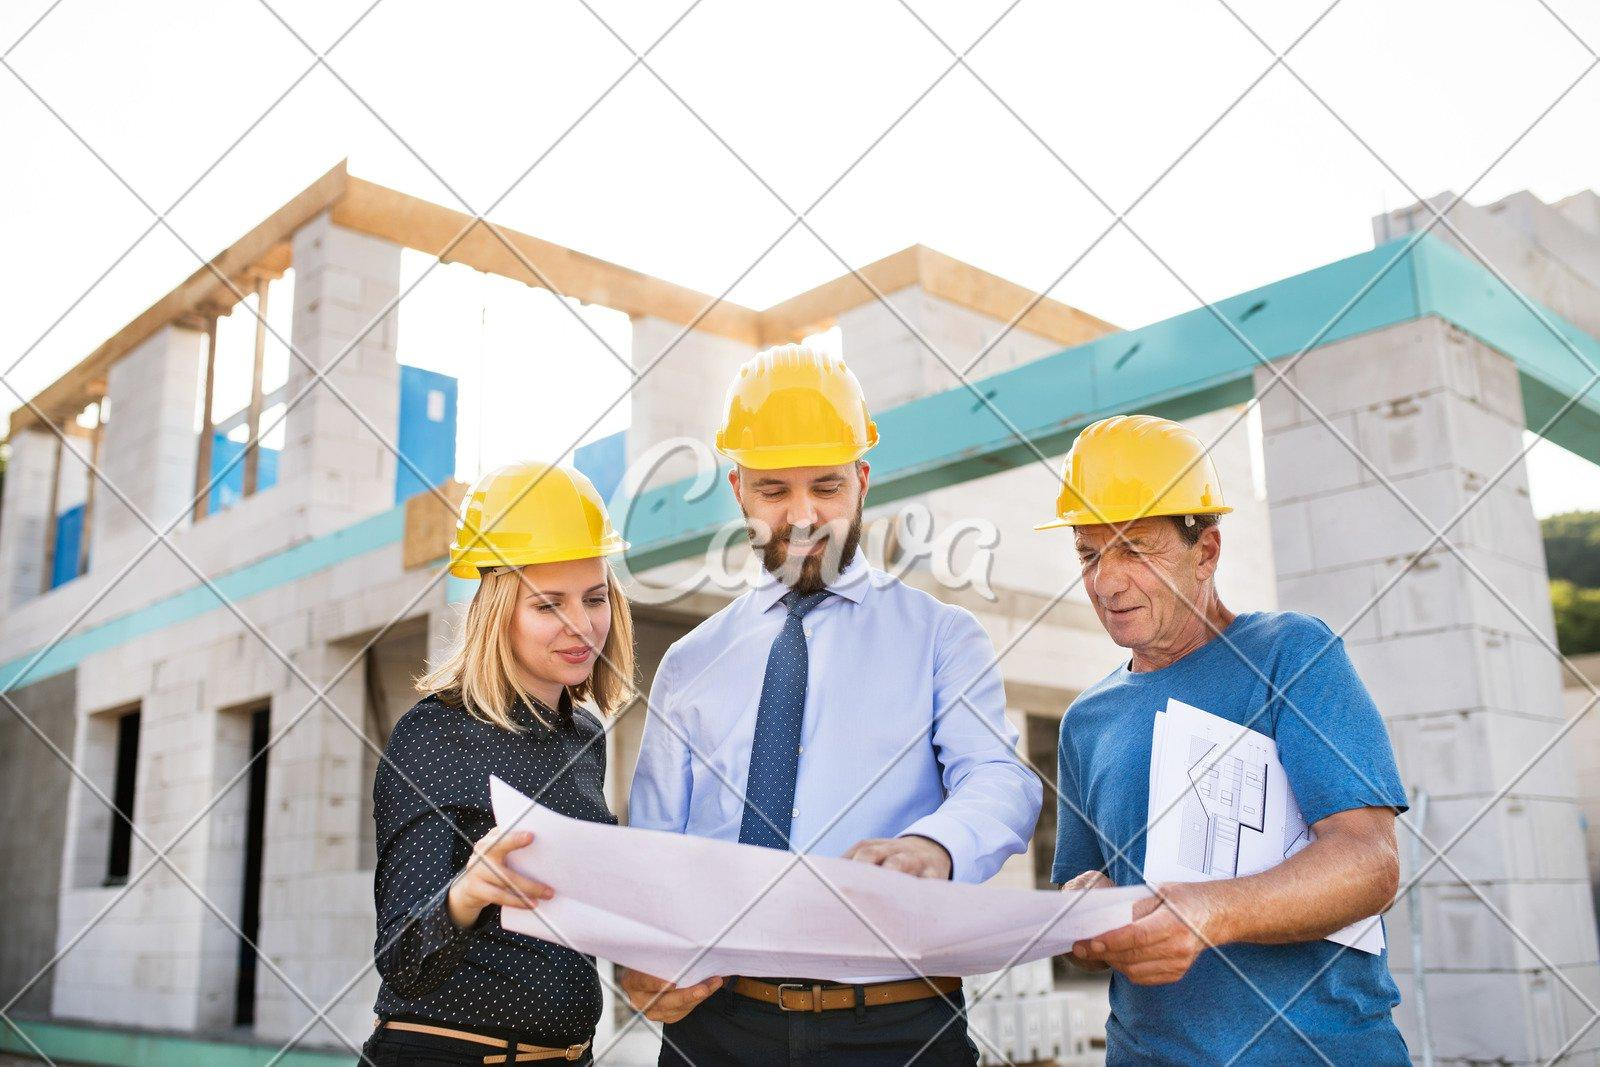helmet: (1037, 411, 1235, 532), (717, 341, 887, 472), (444, 461, 629, 578)
